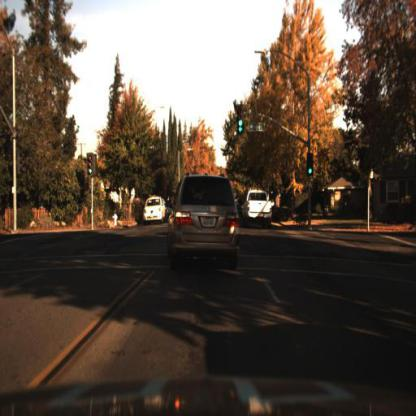car: (170, 172, 243, 272), (245, 188, 274, 226), (144, 196, 168, 224)
trafficLight: (239, 110, 247, 135)
trafficLight-Green: (306, 152, 314, 178)
trafficLight-GreenLeft: (86, 152, 96, 176)
